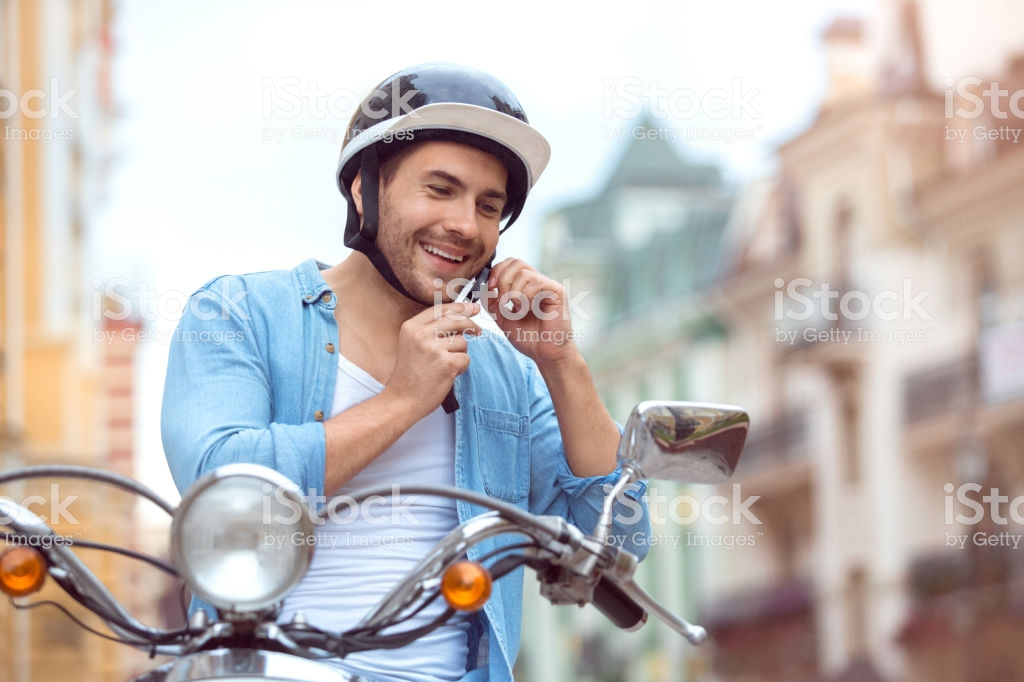helmet: (310, 52, 551, 192)
